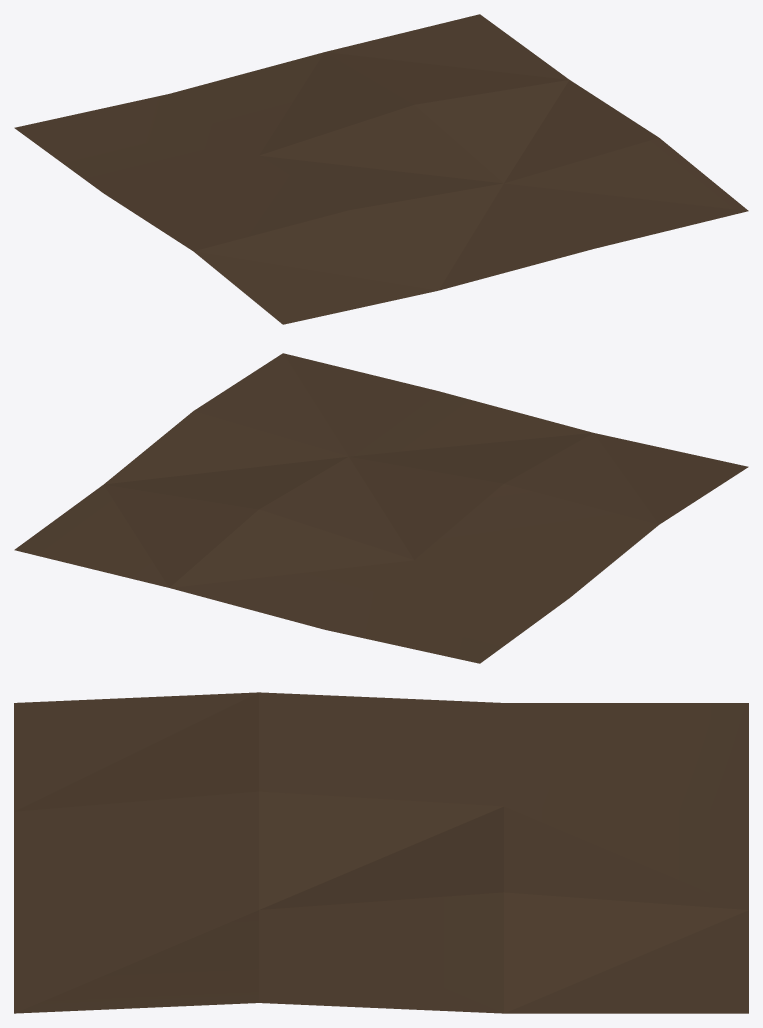
Rendered from fantasy_dungeon-floor-dirt.fbx.
3 views of the same model, one above another, from view 1: azimuth 30°, elevation 25°; view 2: azimuth 150°, elevation 25°; view 3: azimuth 270°, elevation 25° (orthographic). The views are drawn at different scales.
Visible parts, largest first — view 1: fantasy_dungeon_floor_dirt; view 2: fantasy_dungeon_floor_dirt; view 3: fantasy_dungeon_floor_dirt.
Boxes of the visible parts, x1,y1,x2,y2 form: fantasy_dungeon_floor_dirt: [14, 14, 748, 324]; fantasy_dungeon_floor_dirt: [14, 353, 748, 663]; fantasy_dungeon_floor_dirt: [14, 692, 748, 1013].
Bounding box in the file's own units: 200 × 6.88 × 200.
